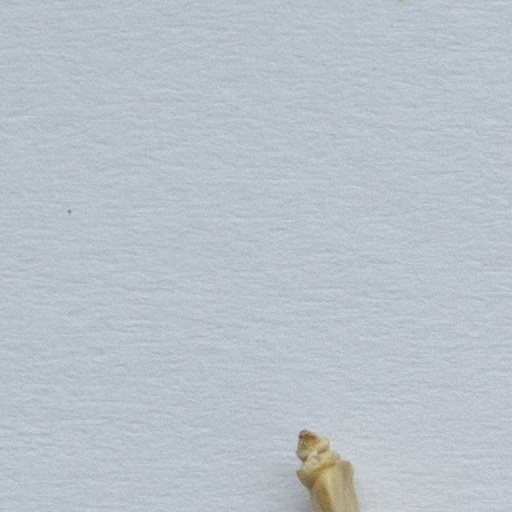Peel-poly: (296, 433, 360, 511)
